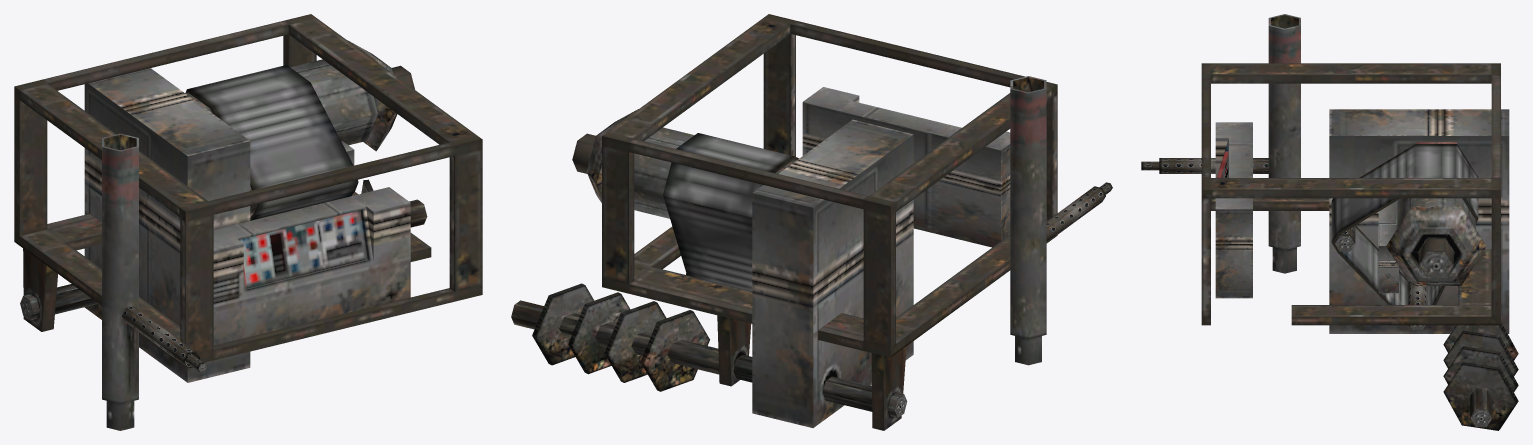
File: eqp_comp_ore_mining_unit.fbx
The picture shows the model from 3 angles, left to right: view 1: azimuth 30°, elevation 25°; view 2: azimuth 150°, elevation 25°; view 3: azimuth 270°, elevation 25°; orthographic projection. The views are drawn at different scales.
Parts seen in each view (by area): view 1: mesh_node; view 2: mesh_node; view 3: mesh_node.
Boxes of the visible parts, x1,y1,x2,y2 form: mesh_node: [14, 14, 482, 430]; mesh_node: [511, 14, 1112, 430]; mesh_node: [1141, 14, 1518, 430].
Bounding box in the file's own units: 1.16 × 0.7406 × 1.01.
Materials: 1 (1 with a texture image).
